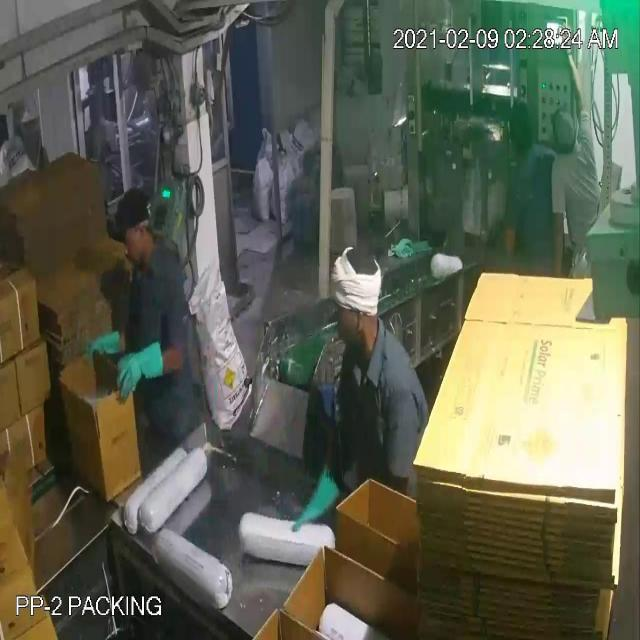Gloves: (24, 44, 574, 498)
